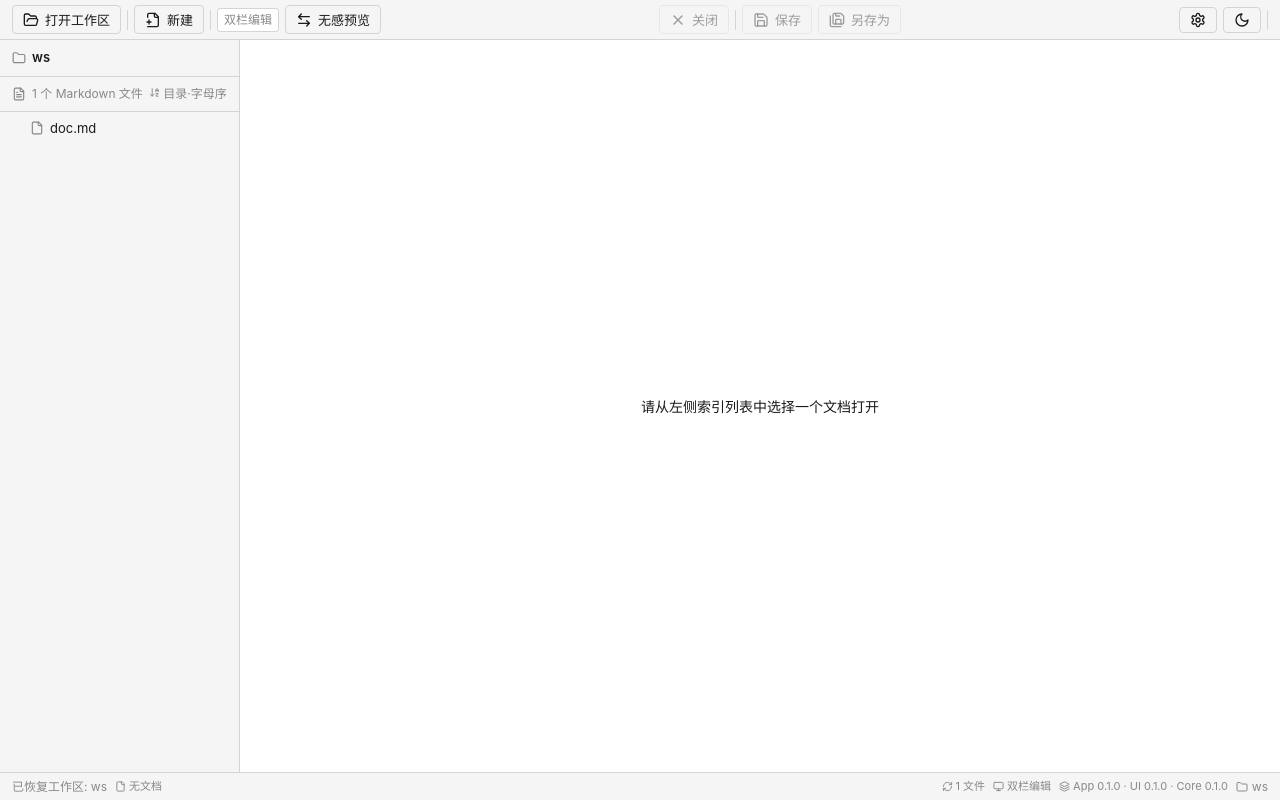
App.tsx document switch (T38) › opening skeleton appears in App while open_document is pending
Click the button with class "tree-node-row--file" at (63, 128), box x1=30 y1=120 x2=96 y2=136
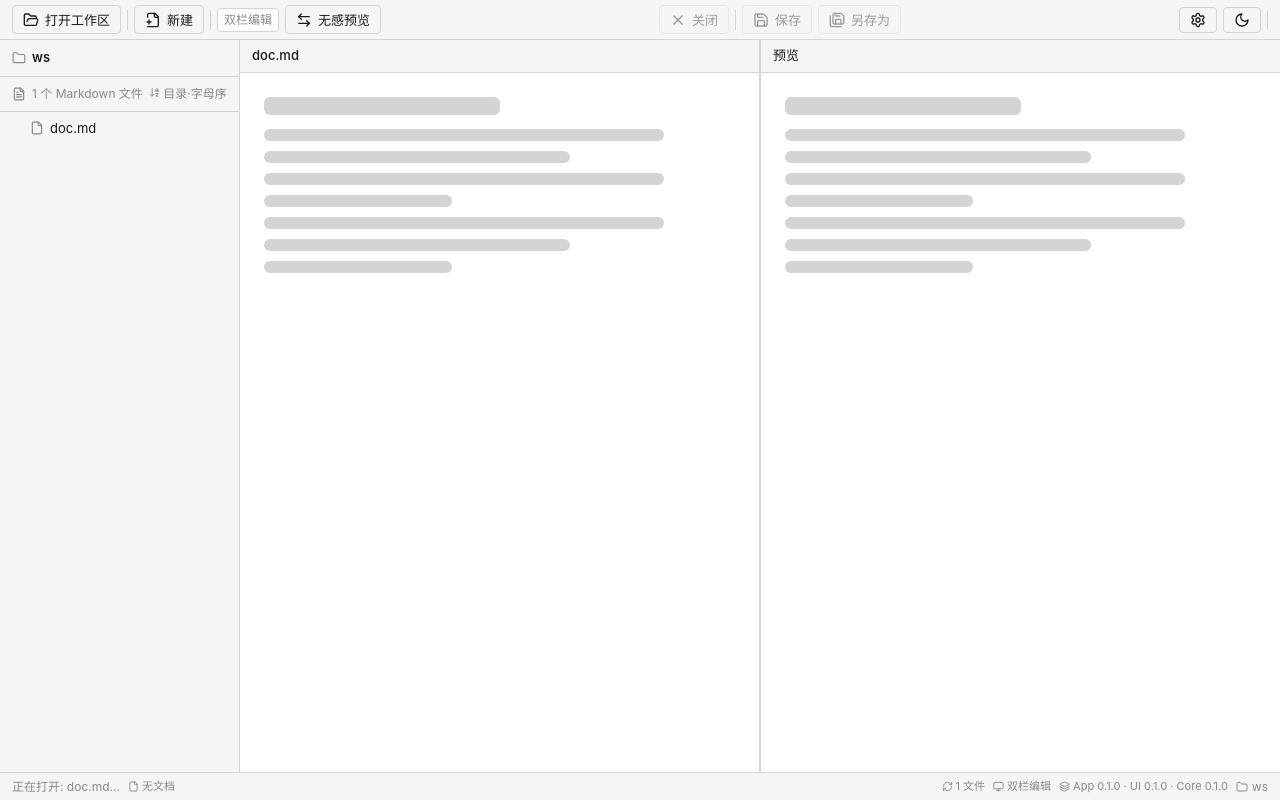
Expected: the 1st element with class "content-opening-skeleton" is shown, x1=264 y1=96 x2=664 y2=272
